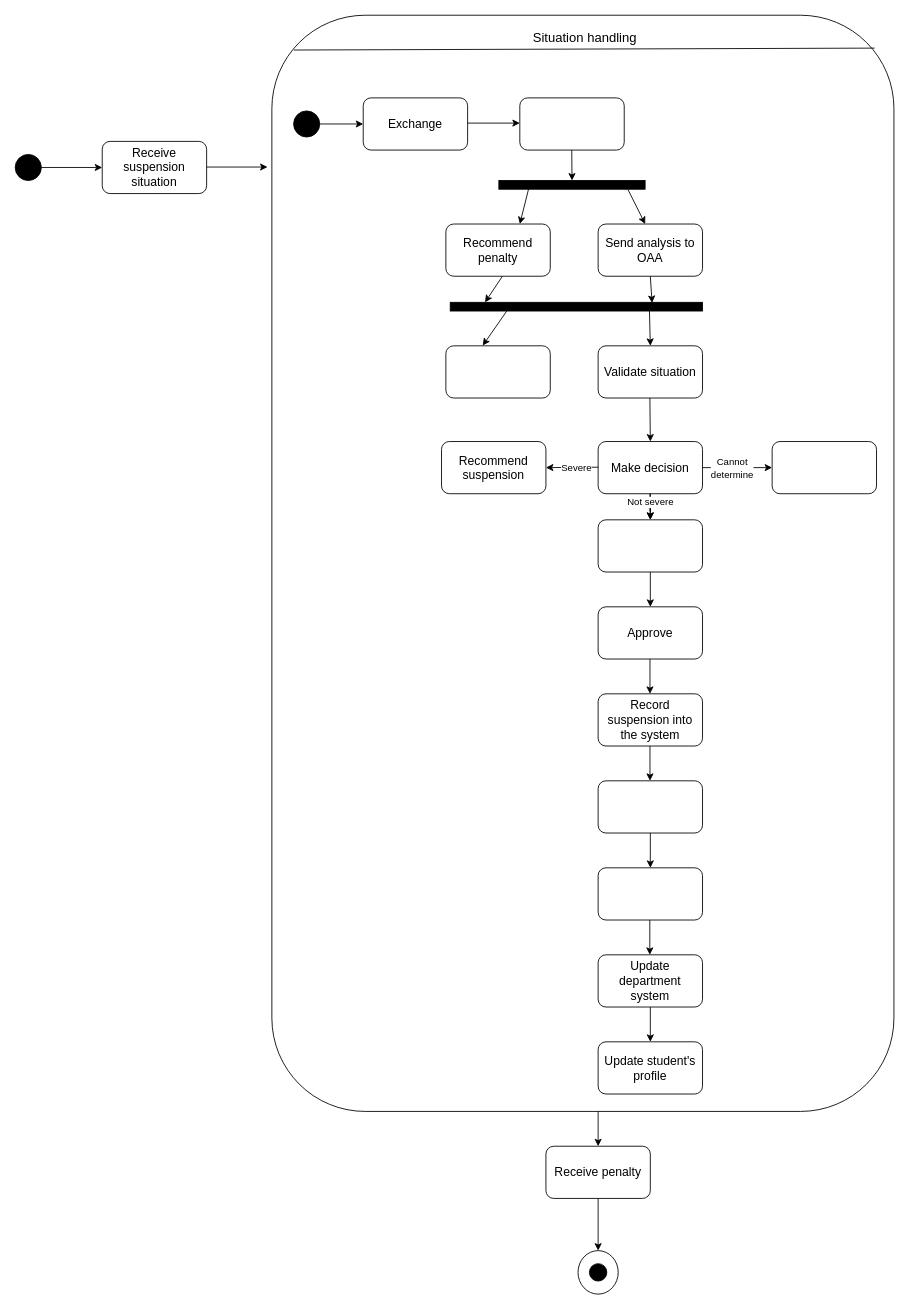
The diagram is 909 pixels wide and 1309 high, and some of its shapes have lost their labels. Each missing label, with the box of its shape:
Analyze situation: (519, 97, 624, 150)
Check student's information: (445, 345, 550, 398)
List suspended student: (597, 867, 703, 920)
Recommend temporary suspension: (597, 519, 703, 572)
Request suspension solution: (771, 441, 877, 494)
Send announcement email: (597, 780, 703, 833)
